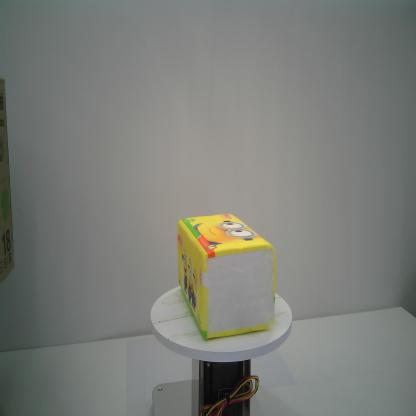Tissue: (176, 212, 278, 342)
